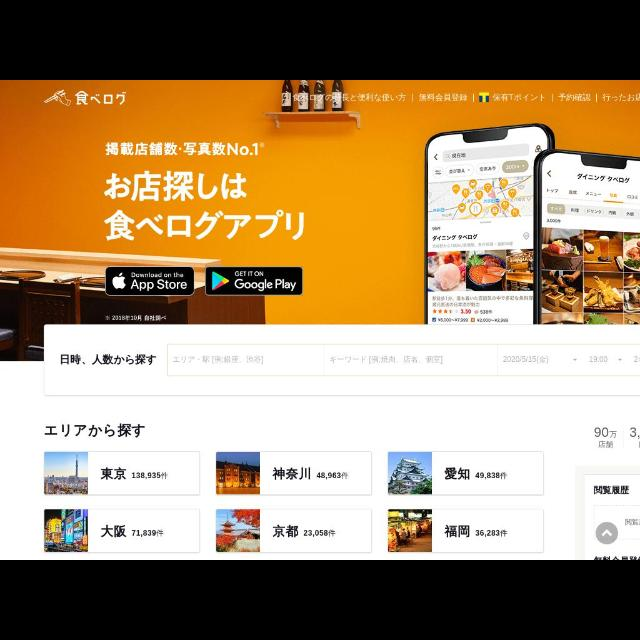backgroundimage: (1, 80, 640, 360)
button: (596, 522, 618, 544)
icon: (44, 90, 70, 108), (602, 529, 612, 537), (572, 358, 578, 362), (618, 358, 622, 362)
image: (44, 453, 88, 495), (45, 510, 89, 552), (217, 510, 261, 552), (388, 452, 432, 494), (388, 510, 432, 552), (218, 452, 260, 494), (211, 272, 229, 290), (112, 272, 126, 290), (479, 92, 489, 102)
input: (326, 345, 498, 377), (168, 344, 326, 376)
multitab: (293, 92, 639, 101)
panel: (44, 326, 638, 396)
spinner: (570, 356, 610, 364), (616, 356, 640, 362)
text: (104, 171, 304, 241), (106, 142, 266, 156), (44, 424, 146, 438), (234, 270, 296, 292), (61, 354, 156, 366), (330, 355, 444, 365), (131, 272, 187, 292), (272, 467, 348, 481), (100, 467, 168, 481), (173, 355, 265, 365), (294, 94, 406, 102), (272, 524, 336, 538), (444, 524, 508, 538), (100, 524, 163, 538), (75, 90, 127, 106), (444, 468, 508, 480), (594, 427, 618, 449), (104, 314, 168, 322), (502, 355, 550, 365), (491, 94, 545, 102), (419, 94, 469, 102), (592, 485, 630, 495), (558, 92, 592, 102), (602, 92, 638, 101), (593, 556, 639, 560), (589, 355, 609, 363), (624, 518, 638, 526), (630, 428, 638, 438), (633, 356, 639, 362)
textbutton: (105, 266, 193, 296), (205, 268, 302, 294)
